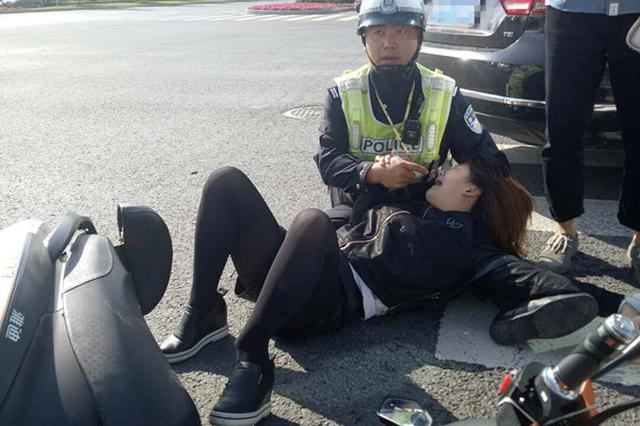fall: (111, 133, 601, 426)
